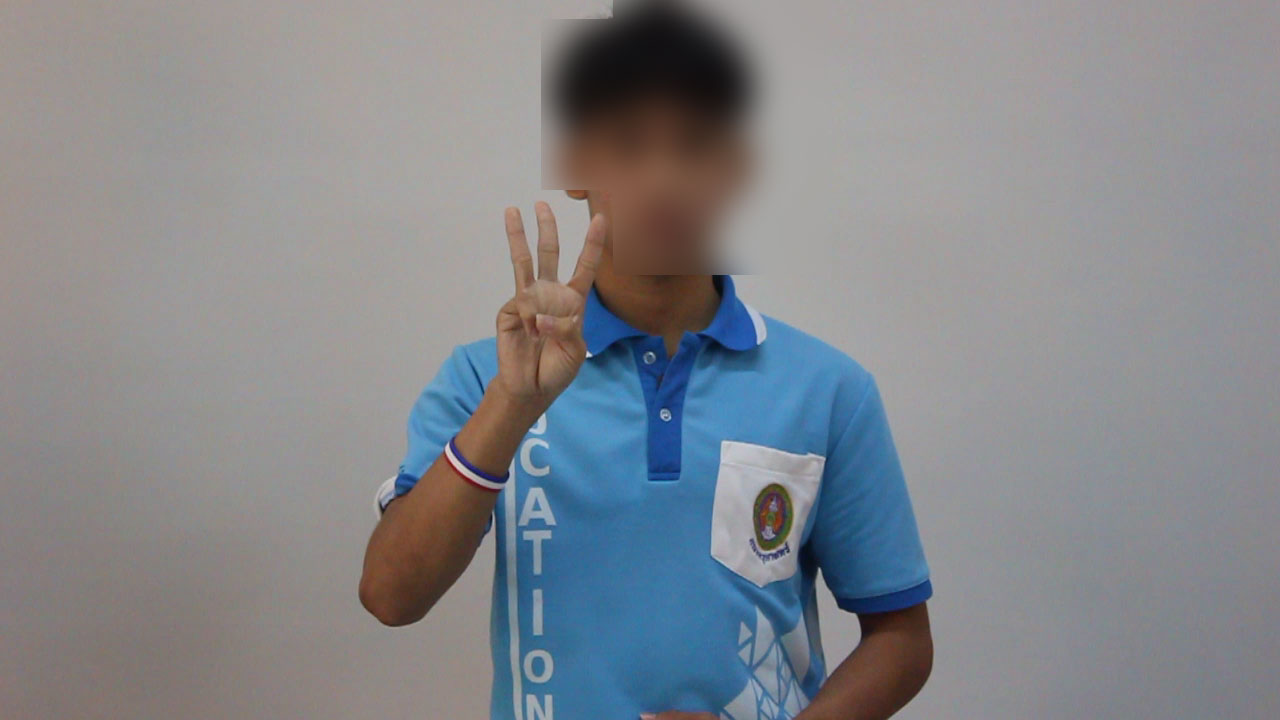wor: (487, 193, 615, 417)
